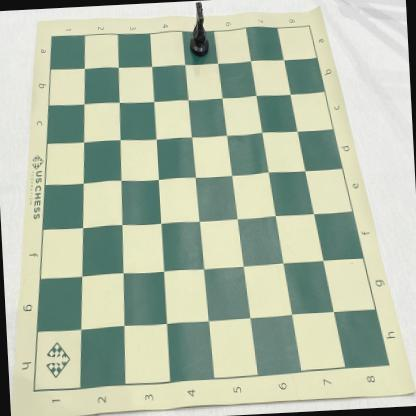black-knight: (187, 2, 209, 58)
